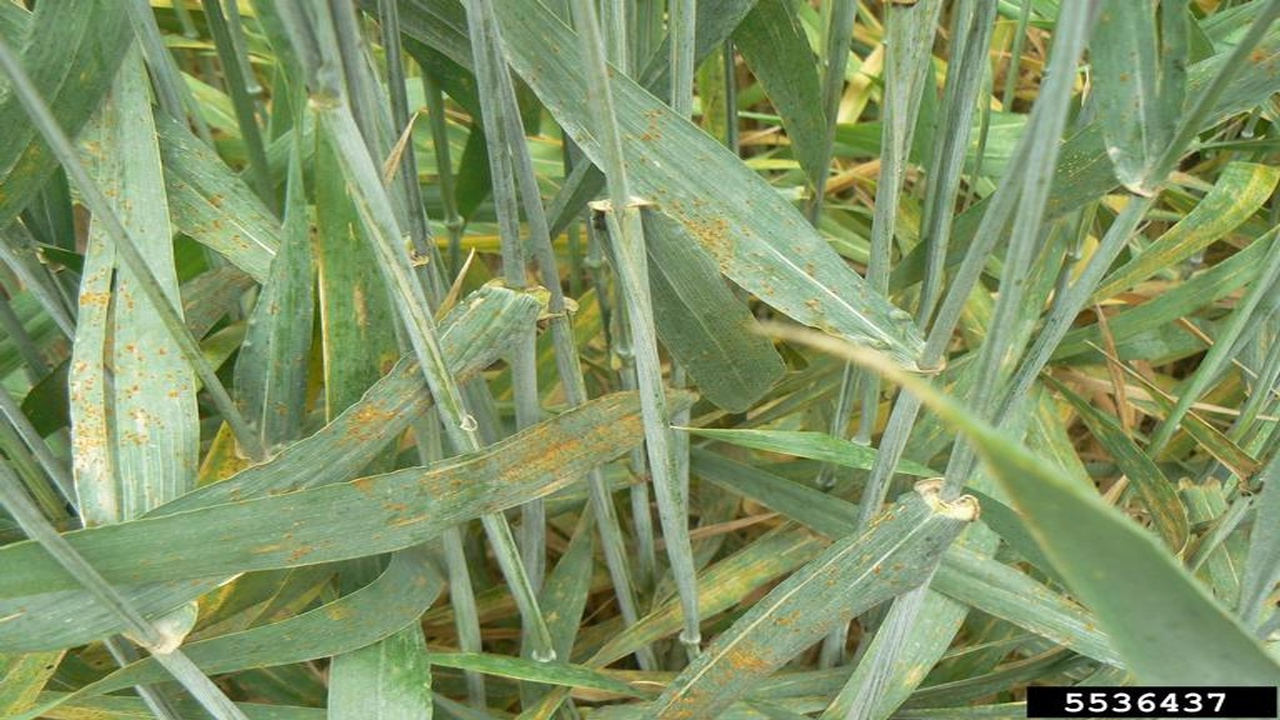leaf_rust: (498, 9, 919, 361), (637, 500, 946, 720), (69, 42, 197, 538), (356, 391, 692, 575), (325, 284, 509, 480)
